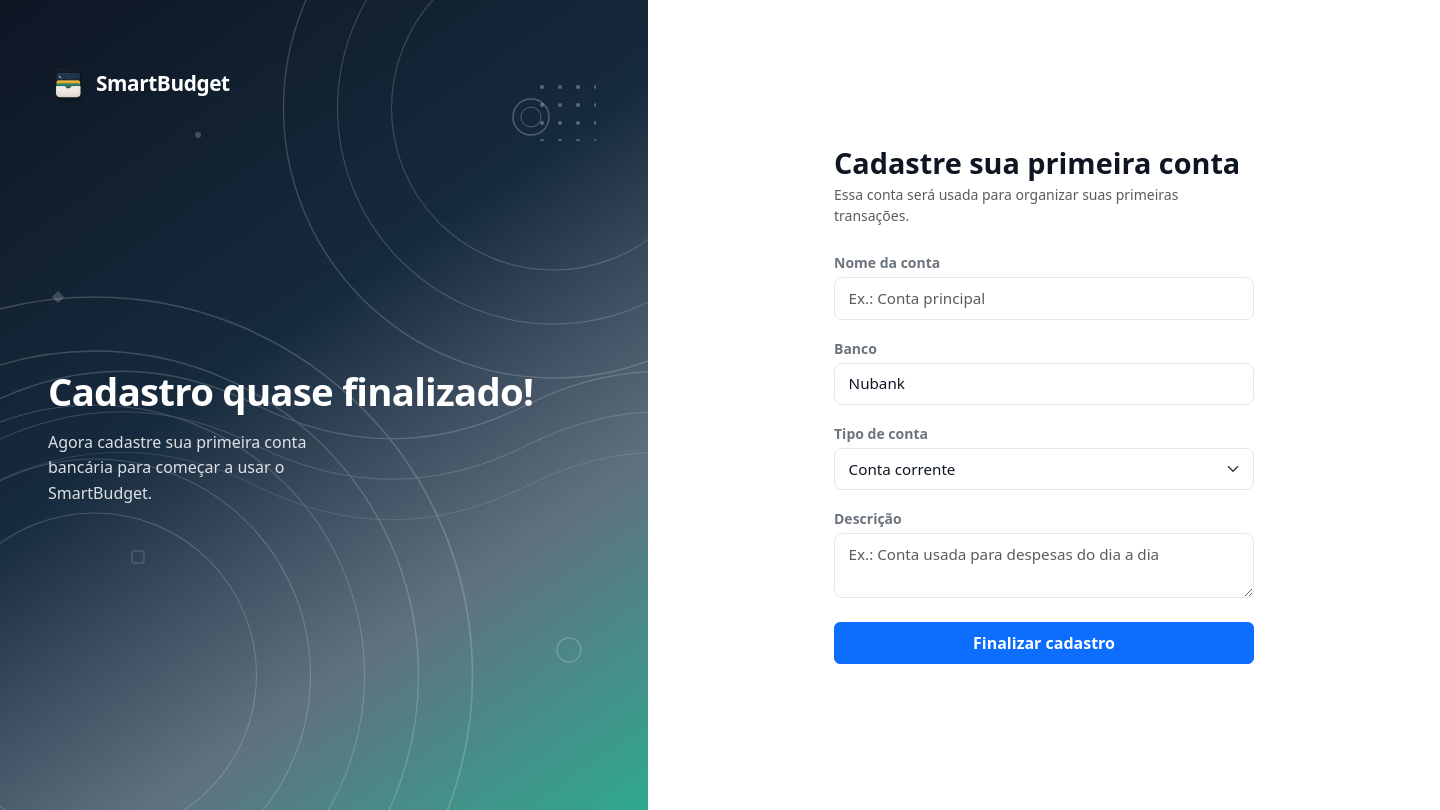
Test: Tela de Primeira Conta (onboarding) › deve exibir erro de validação ao tentar submeter com o nome em branco
Click the button "Finalizar cadastro" at (1044, 643), box x1=834 y1=622 x2=1254 y2=664
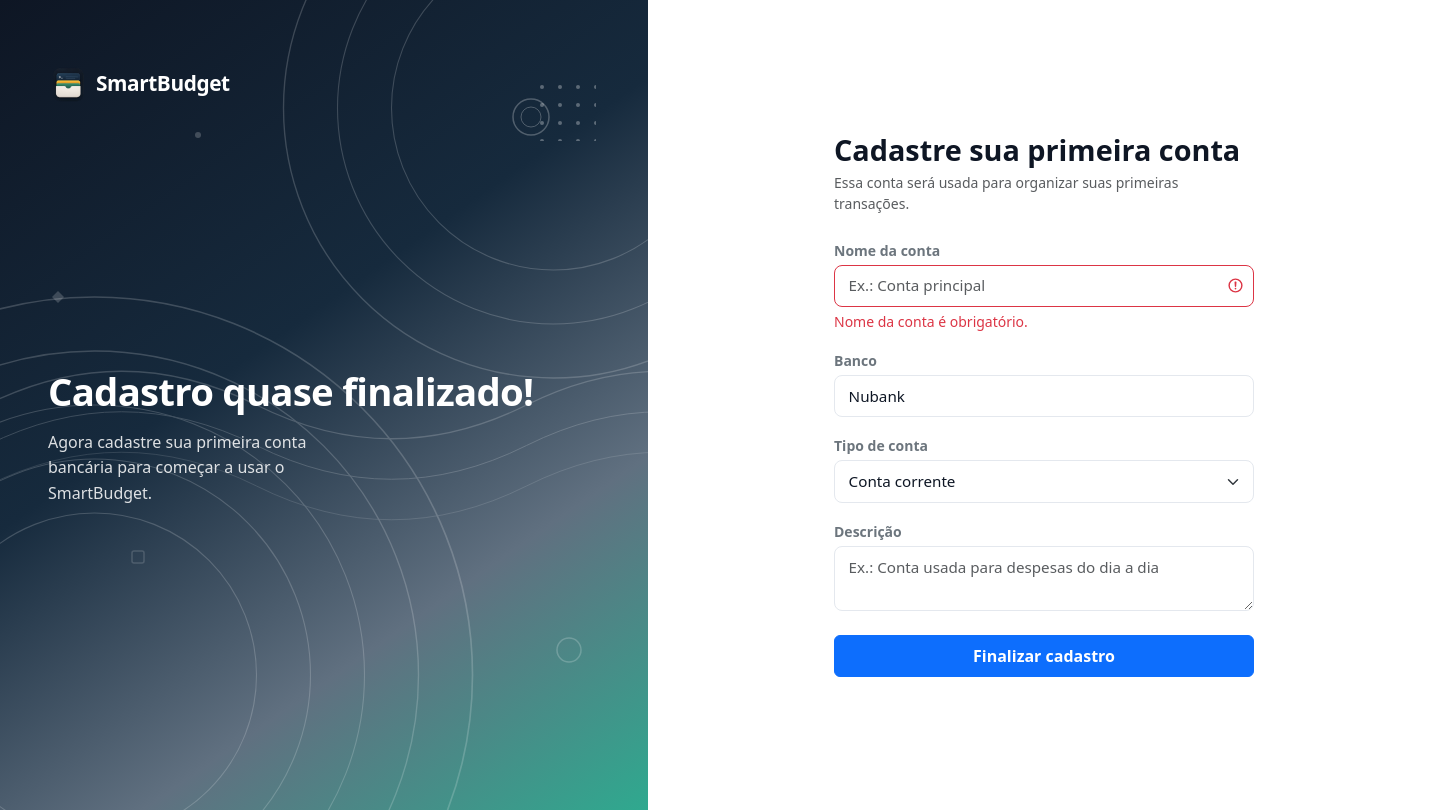
Expected: the text "Nome da conta é obrigatório." is shown, x1=834 y1=312 x2=1028 y2=331
